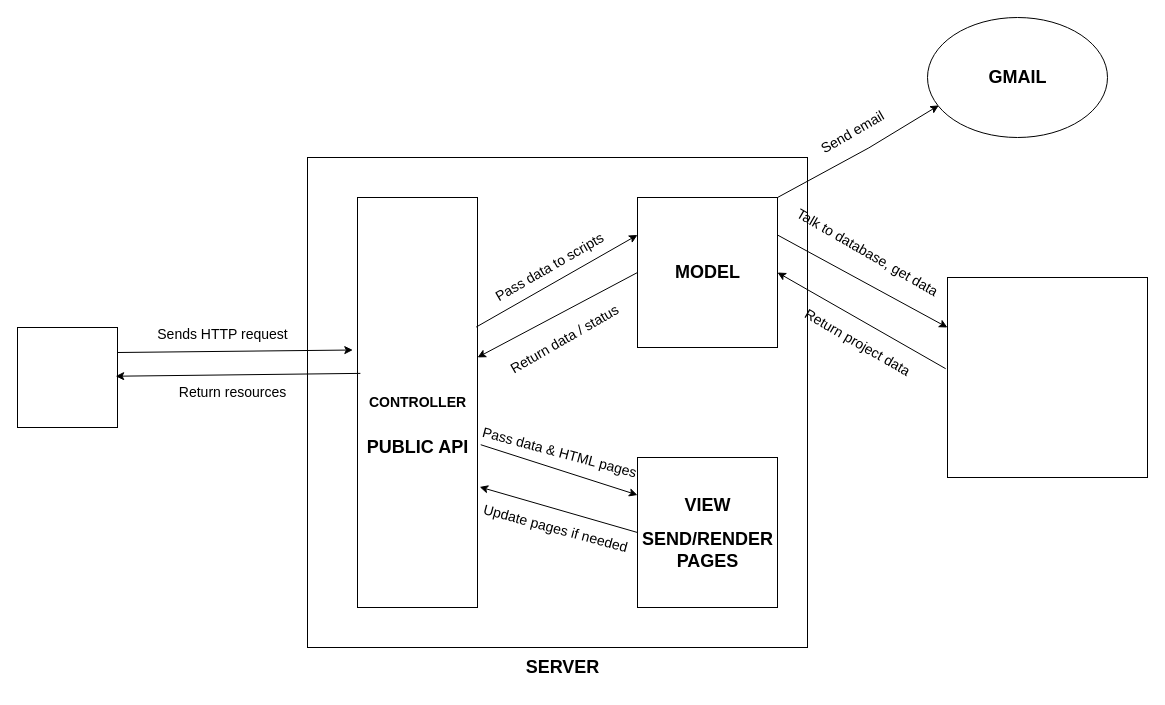
This 1165x705 diagram has some shape labels left out. Here are the shapes that lost their labels. From the top down, the box of each, then its label:
(16, 326, 118, 428): CLIENT
(946, 276, 1148, 478): CARDS DATABASE
